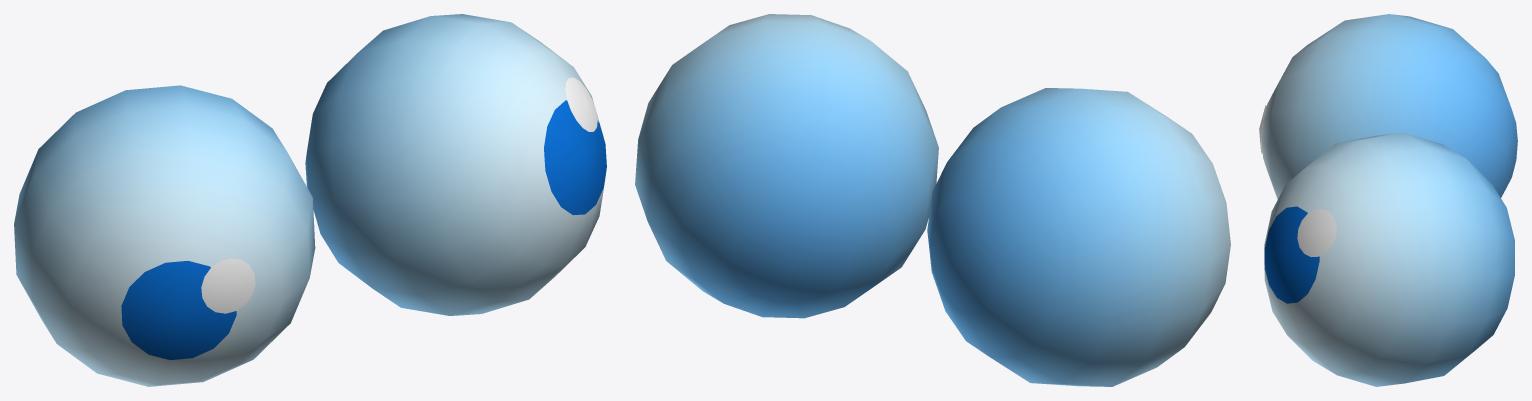
File: Capsule_Eyes_Woble_01.fbx
3 renders of one model, left to right at view 1: azimuth 30°, elevation 25°; view 2: azimuth 150°, elevation 25°; view 3: azimuth 270°, elevation 25°, orthographic. The views are drawn at different scales.
Parts seen in each view (by area): view 1: Capsule_Eyes_Woble_01; view 2: Capsule_Eyes_Woble_01; view 3: Capsule_Eyes_Woble_01.
Part boxes in pixels (x1,y1,x2,y2): Capsule_Eyes_Woble_01: [14, 14, 606, 386]; Capsule_Eyes_Woble_01: [635, 14, 1230, 386]; Capsule_Eyes_Woble_01: [1259, 14, 1517, 386].
Size of the model in its own units: 84.87 by 39.91 by 40.91.
